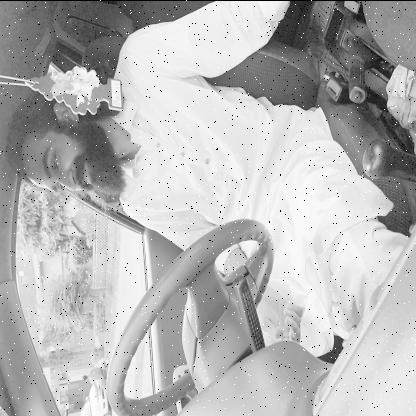no_seatbelt: (9, 100, 268, 222)
